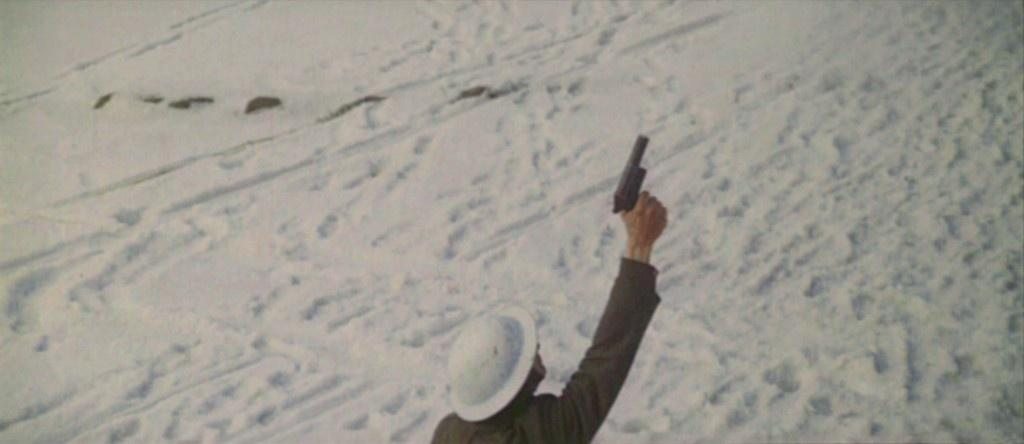gun: (609, 130, 663, 229)
